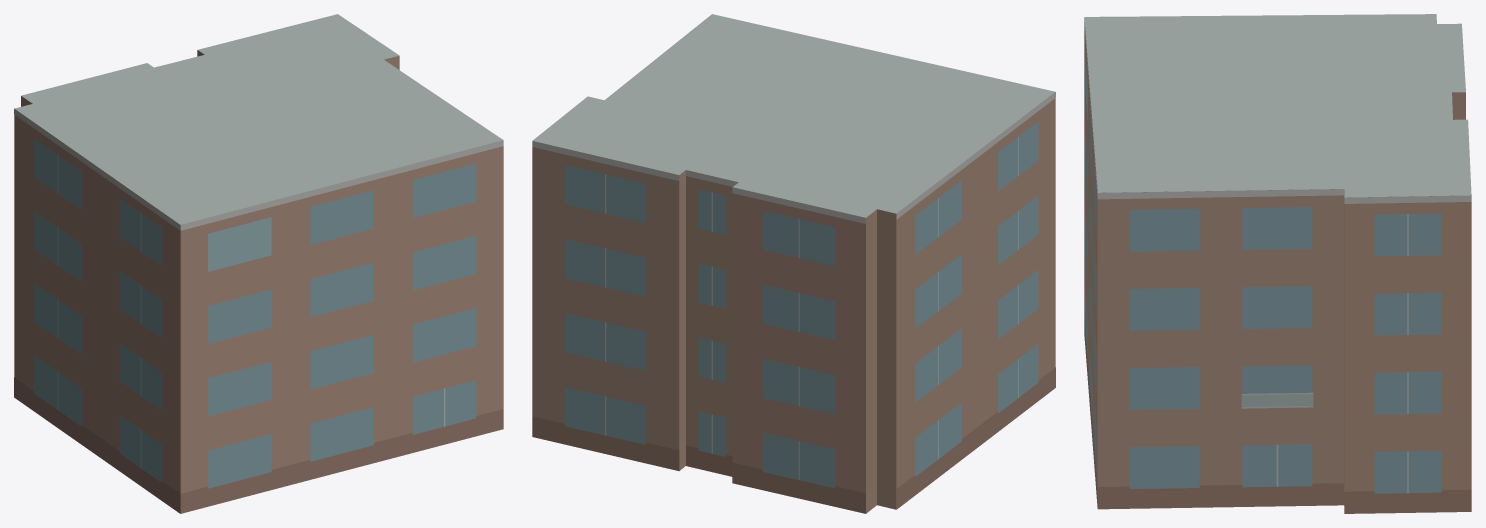
File: survey-upis-32512313.glb
3 views of the same model, side by side, from view 1: azimuth 30°, elevation 25°; view 2: azimuth 150°, elevation 25°; view 3: azimuth 270°, elevation 25° (orthographic). The views are drawn at different scales.
Visible parts, largest first — view 1: survey-upis-32512313.tmp; view 2: survey-upis-32512313.tmp; view 3: survey-upis-32512313.tmp.
Part boxes in pixels (<box>): survey-upis-32512313.tmp: <box>14,14,503,513</box>; survey-upis-32512313.tmp: <box>532,14,1055,513</box>; survey-upis-32512313.tmp: <box>1084,14,1471,513</box>.
Size of the model in its own units: 14.81 by 11.9 by 13.21.
